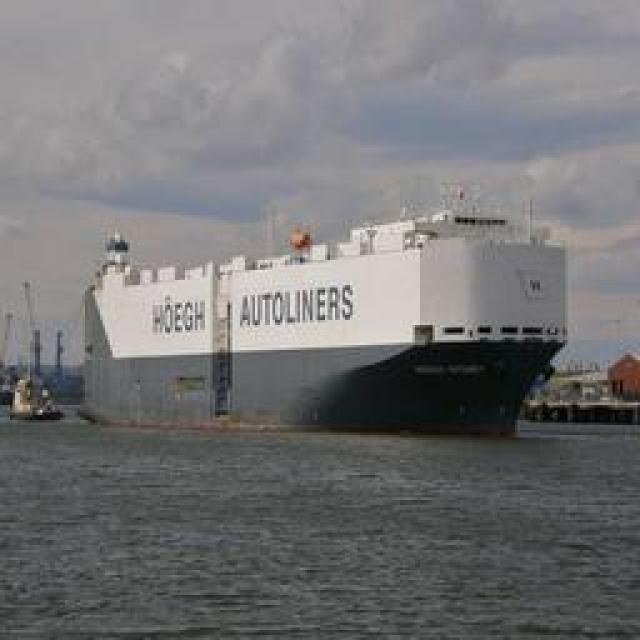CIV_Ship: (55, 190, 570, 430)
